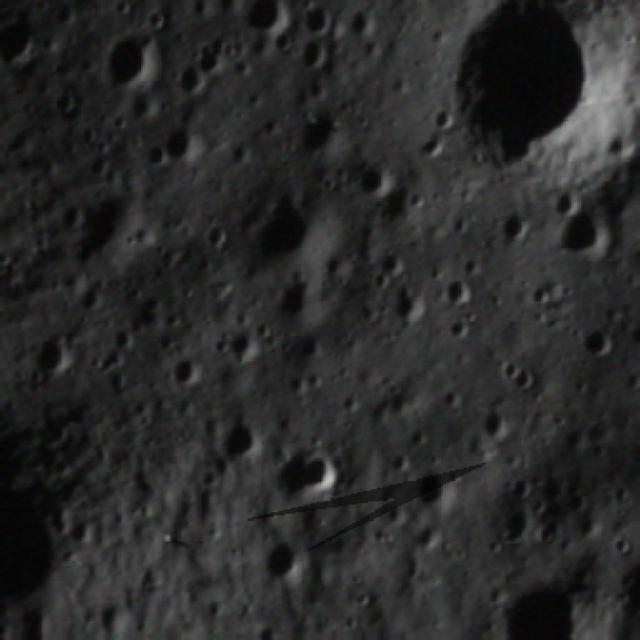crater: (436, 1, 604, 181), (65, 188, 162, 277), (241, 191, 341, 275), (499, 580, 593, 638), (96, 30, 164, 96), (278, 444, 340, 507), (556, 203, 618, 263), (259, 540, 312, 594), (410, 469, 459, 520), (298, 110, 345, 161), (218, 414, 264, 466), (274, 280, 324, 326), (33, 337, 76, 383), (221, 330, 268, 370), (387, 288, 428, 332), (166, 122, 206, 167), (476, 401, 512, 450), (497, 508, 538, 549), (354, 167, 398, 204), (501, 359, 542, 398), (190, 39, 228, 81), (164, 354, 204, 392), (129, 297, 169, 334), (299, 7, 338, 44), (550, 184, 587, 221), (440, 278, 480, 312), (48, 89, 84, 126), (581, 322, 614, 362), (496, 210, 530, 248), (425, 103, 458, 140), (440, 314, 478, 346), (172, 66, 205, 102), (196, 464, 229, 496), (299, 44, 333, 74), (201, 218, 227, 256), (523, 287, 562, 311), (80, 290, 108, 318)
